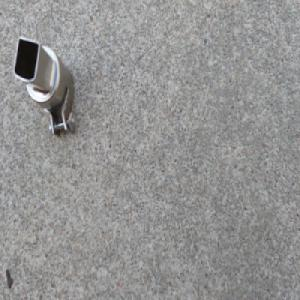MetalPart: (11, 35, 77, 139)
